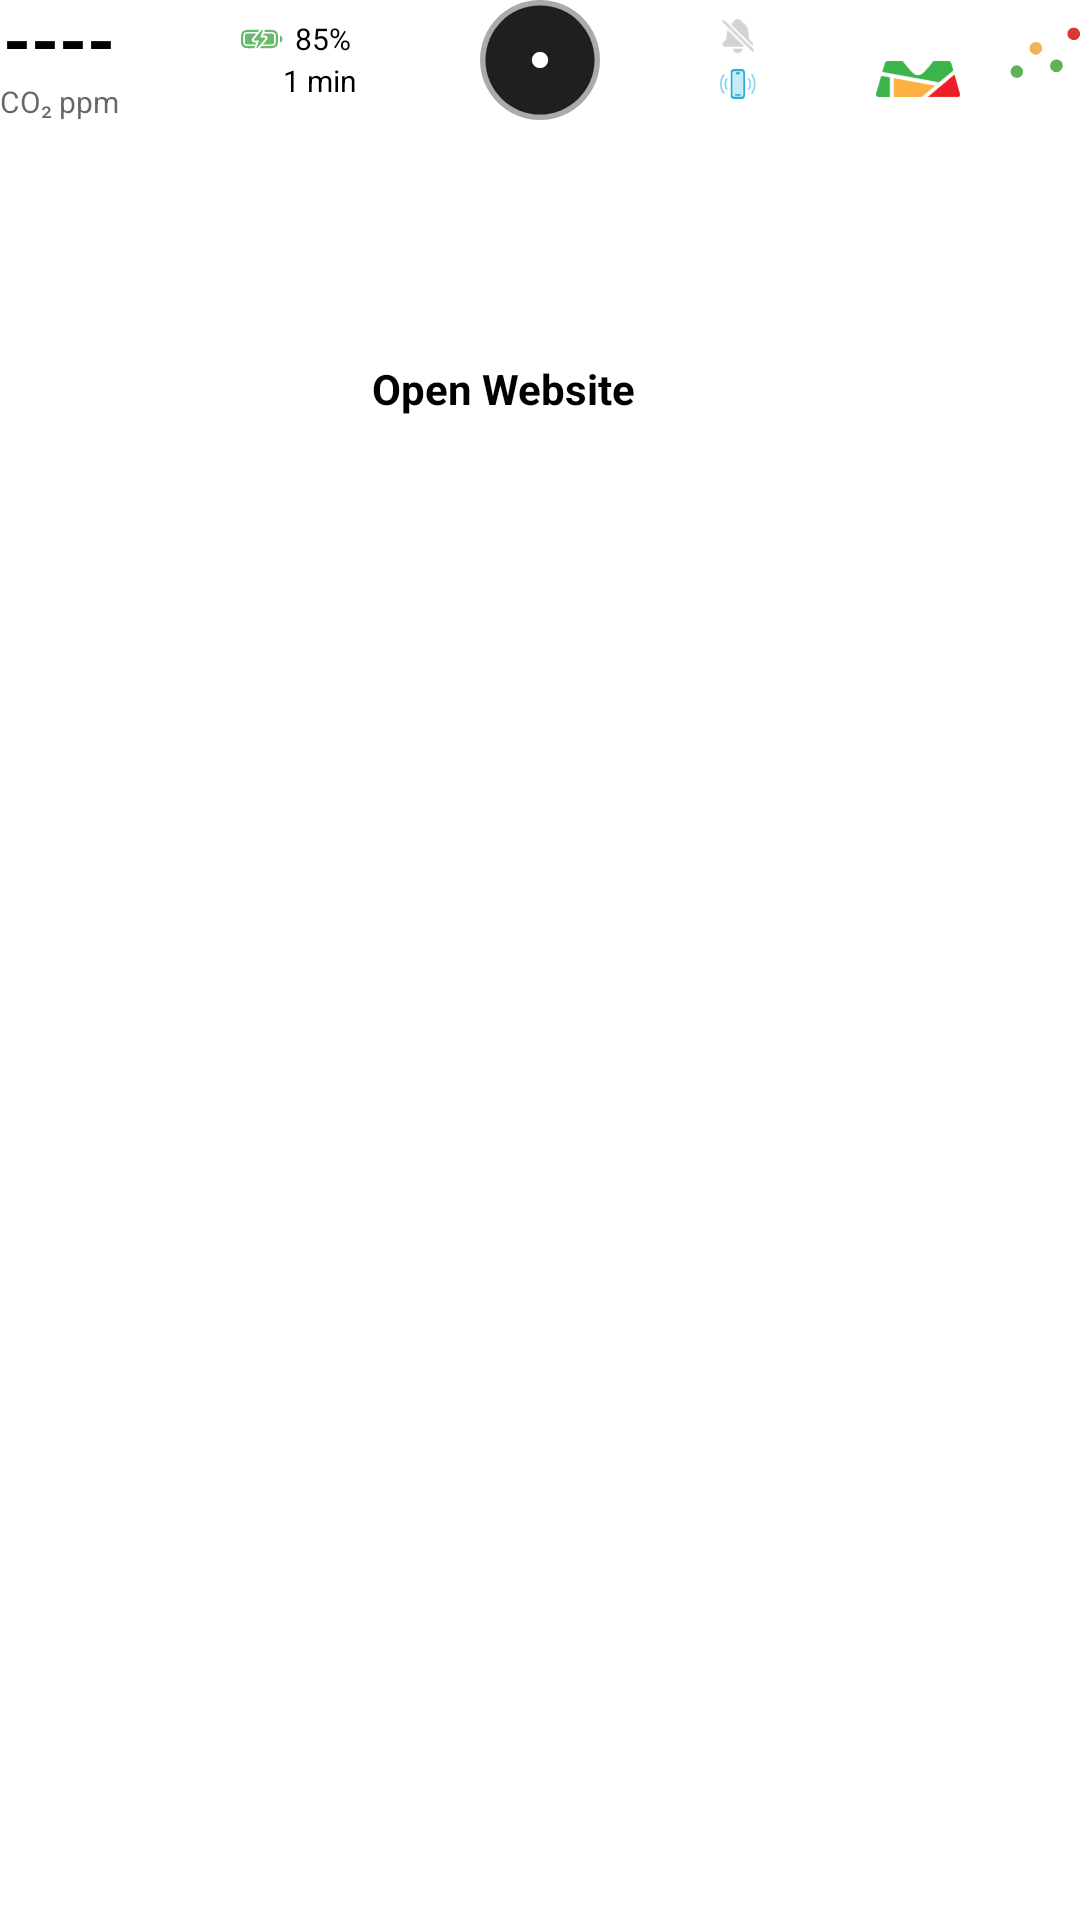

Locate icon controls on the screen. Image size 1080px×1920px, boxes as box=[x1, y1, x2, y2].
alarm off: box=[723, 19, 754, 53]
battery 100percent bolt: box=[241, 29, 283, 49]
Graph: box=[1010, 27, 1080, 78]
Map: box=[876, 61, 960, 97]
vibrate on: box=[720, 69, 756, 99]
